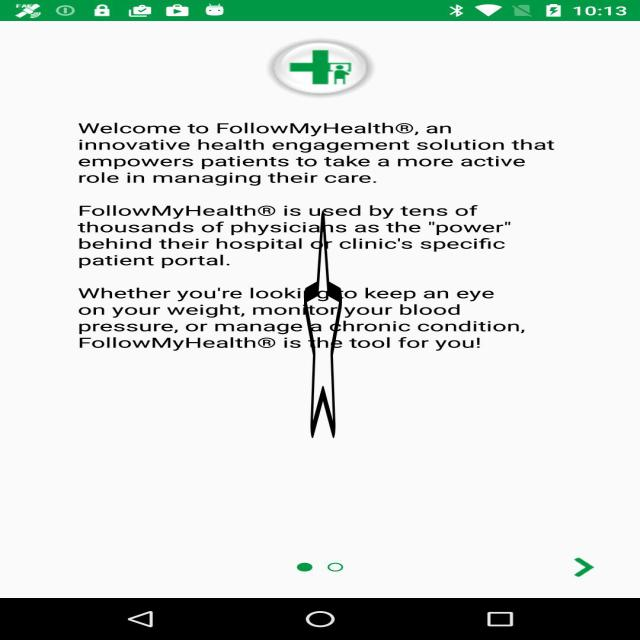forced continuity: (304, 205, 342, 443)
